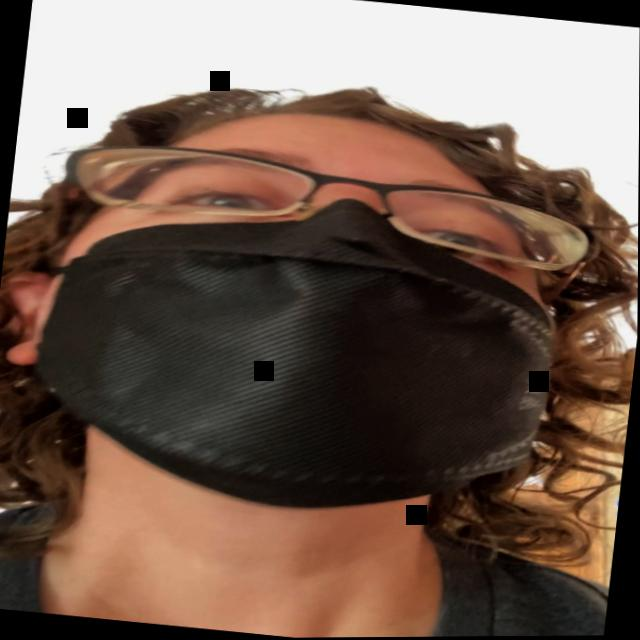Mask: (19, 86, 579, 528)
